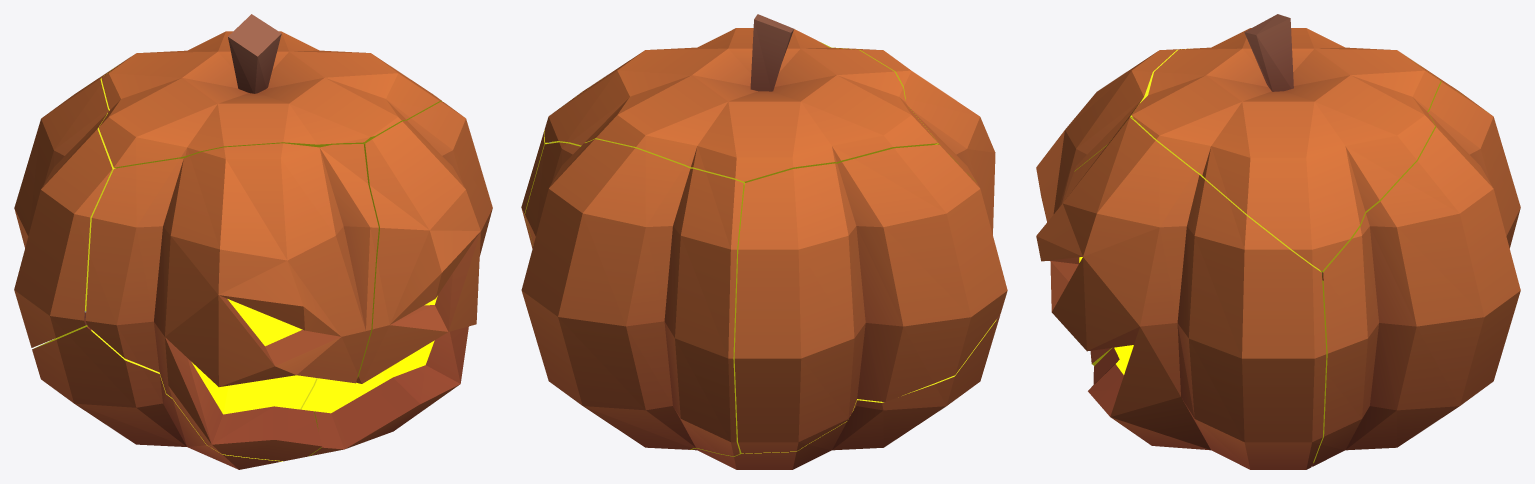
File: lowpoly_pumpkin_pieces_scaled.glb
3 views of the same model, side by side, from view 1: azimuth 30°, elevation 25°; view 2: azimuth 150°, elevation 25°; view 3: azimuth 270°, elevation 25° (orthographic).
Visible parts, largest first — view 1: pumpkin_orange_jackolantern_cell.004, pumpkin_orange_jackolantern_cell.002, pumpkin_orange_jackolantern_cell.005, pumpkin_orange_jackolantern_cell.003, pumpkin_orange_jackolantern_cell, pumpkin_orange_jackolantern_cell.006, pumpkin_orange_jackolantern_cell.001; view 2: pumpkin_orange_jackolantern_cell.003, pumpkin_orange_jackolantern_cell.001, pumpkin_orange_jackolantern_cell.005, pumpkin_orange_jackolantern_cell, pumpkin_orange_jackolantern_cell.004, pumpkin_orange_jackolantern_cell.006, pumpkin_orange_jackolantern_cell.002; view 3: pumpkin_orange_jackolantern_cell.002, pumpkin_orange_jackolantern_cell.001, pumpkin_orange_jackolantern_cell.005, pumpkin_orange_jackolantern_cell.004, pumpkin_orange_jackolantern_cell.006.
Part boxes in pixels (bbox=[...]): pumpkin_orange_jackolantern_cell.004: bbox=[85, 143, 378, 461]; pumpkin_orange_jackolantern_cell.002: bbox=[301, 101, 492, 456]; pumpkin_orange_jackolantern_cell.005: bbox=[98, 31, 442, 168]; pumpkin_orange_jackolantern_cell.003: bbox=[14, 68, 115, 347]; pumpkin_orange_jackolantern_cell: bbox=[32, 325, 317, 469]; pumpkin_orange_jackolantern_cell.006: bbox=[228, 14, 281, 93]; pumpkin_orange_jackolantern_cell.001: bbox=[74, 65, 287, 325]; pumpkin_orange_jackolantern_cell.003: bbox=[734, 144, 1007, 453]; pumpkin_orange_jackolantern_cell.001: bbox=[521, 139, 744, 456]; pumpkin_orange_jackolantern_cell.005: bbox=[544, 28, 937, 184]; pumpkin_orange_jackolantern_cell: bbox=[690, 314, 1000, 469]; pumpkin_orange_jackolantern_cell.004: bbox=[820, 42, 995, 234]; pumpkin_orange_jackolantern_cell.006: bbox=[750, 14, 793, 91]; pumpkin_orange_jackolantern_cell.002: bbox=[521, 78, 602, 248]; pumpkin_orange_jackolantern_cell.002: bbox=[1036, 117, 1326, 469]; pumpkin_orange_jackolantern_cell.001: bbox=[1312, 80, 1520, 466]; pumpkin_orange_jackolantern_cell.005: bbox=[1131, 28, 1440, 270]; pumpkin_orange_jackolantern_cell.004: bbox=[1036, 48, 1189, 365]; pumpkin_orange_jackolantern_cell.006: bbox=[1244, 14, 1293, 91].
Size of the model in its own units: 0.75 by 0.6479 by 0.7.
2 materials, 1 textured.
